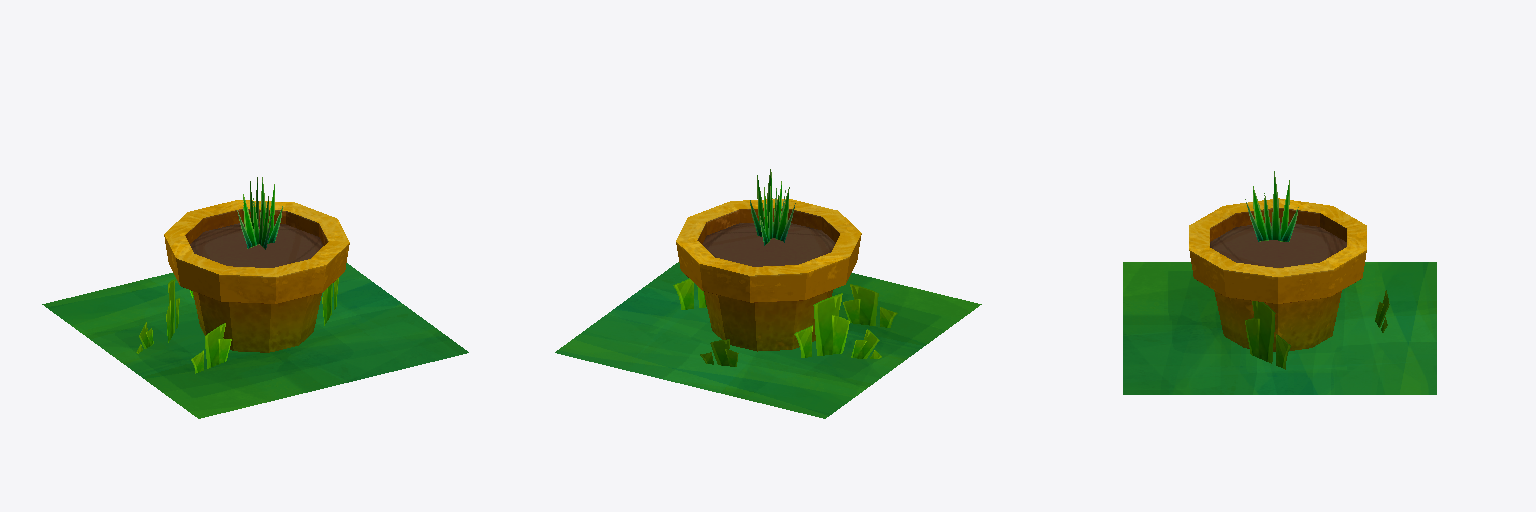
3 renders of one model, left to right at view 1: azimuth 30°, elevation 25°; view 2: azimuth 150°, elevation 25°; view 3: azimuth 270°, elevation 25°, orthographic.
Parts seen in each view (by area): view 1: Stylizedplants_model.002; view 2: Stylizedplants_model.002; view 3: Stylizedplants_model.002.
Part boxes in pixels (x1,y1,x2,y2): Stylizedplants_model.002: (42, 177, 468, 418); Stylizedplants_model.002: (555, 169, 981, 418); Stylizedplants_model.002: (1123, 171, 1436, 394).
Bounding box in the file's own units: 45.19 × 26.78 × 45.19.
1 materials, 1 textured.